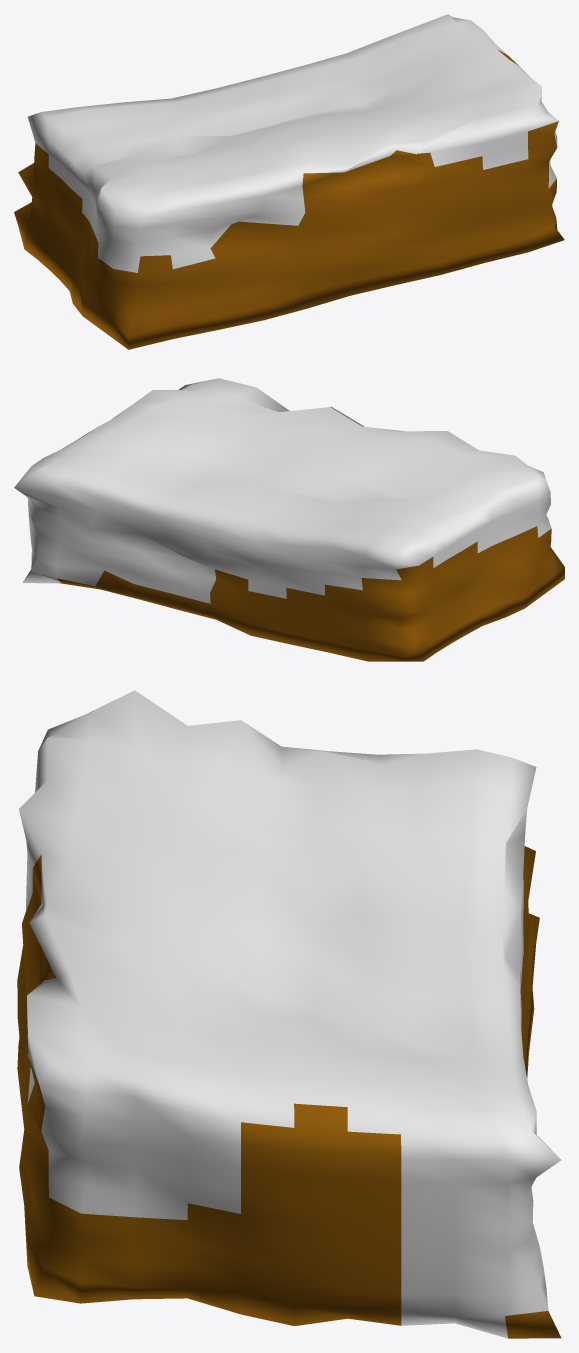
File: SnowDrift1.glb
3 views of the same model, one above another, from view 1: azimuth 30°, elevation 25°; view 2: azimuth 150°, elevation 25°; view 3: azimuth 270°, elevation 25° (orthographic). The views are drawn at different scales.
Visible parts, largest first — view 1: Cube; view 2: Cube; view 3: Cube.
Part boxes in pixels (x1=…): Cube: x1=14, y1=14, x2=564, y2=349; Cube: x1=14, y1=378, x2=564, y2=661; Cube: x1=17, y1=690, x2=561, y2=1338.
Bounding box in the file's own units: 2.17 × 0.6527 × 1.22.
